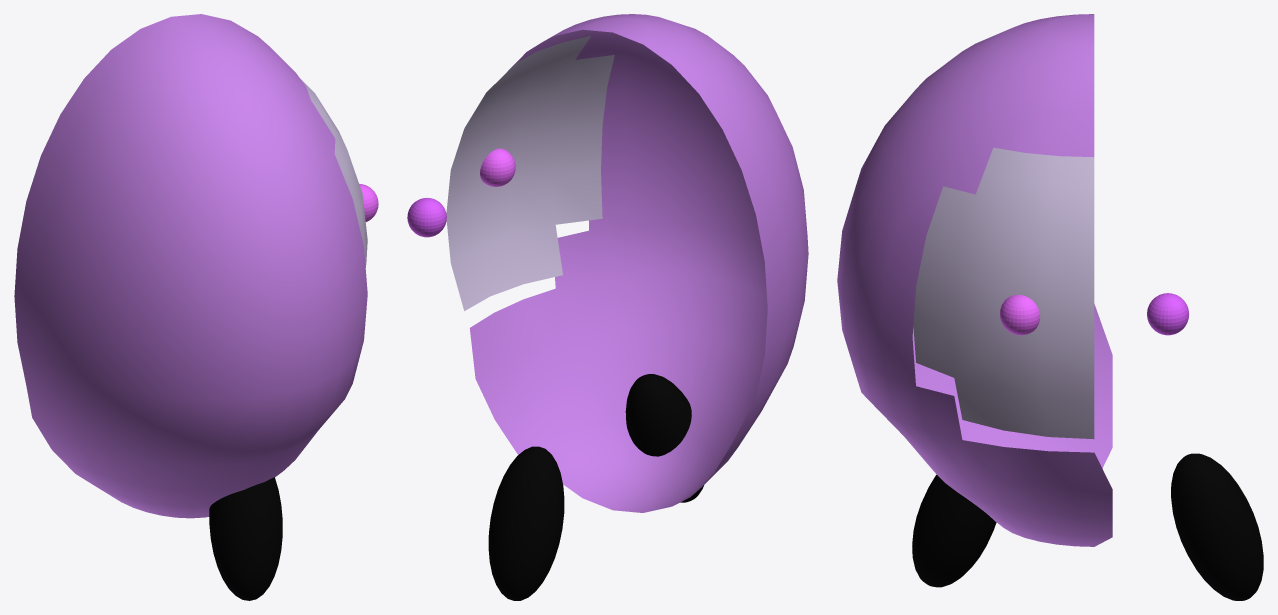
Rendered from hero.glb.
The picture shows the model from 3 angles, left to right: view 1: azimuth 30°, elevation 25°; view 2: azimuth 150°, elevation 25°; view 3: azimuth 270°, elevation 25°; orthographic projection. The views are drawn at different scales.
Visible parts, largest first — view 1: body, ear-r, face; view 2: body, face, ear-l, ear-r, eye-l, eye-r; view 3: body, face, ear-l, ear-r, eye-l, eye-r.
Boxes of the visible parts, box(x1,y1,x2,y2) form: body: box(14, 14, 367, 518); ear-r: box(209, 477, 282, 600); face: box(301, 79, 367, 267); body: box(469, 14, 808, 512); face: box(446, 36, 614, 310); ear-l: box(488, 446, 564, 600); ear-r: box(625, 374, 703, 502); eye-l: box(407, 198, 446, 237); eye-r: box(480, 148, 515, 186); body: box(837, 14, 1112, 546); face: box(913, 147, 1094, 439); ear-l: box(1171, 453, 1263, 600); ear-r: box(912, 474, 996, 587); eye-l: box(1147, 293, 1189, 335); eye-r: box(1000, 294, 1040, 335).
Bounding box in the file's own units: 1.1 × 1.7 × 1.18.
